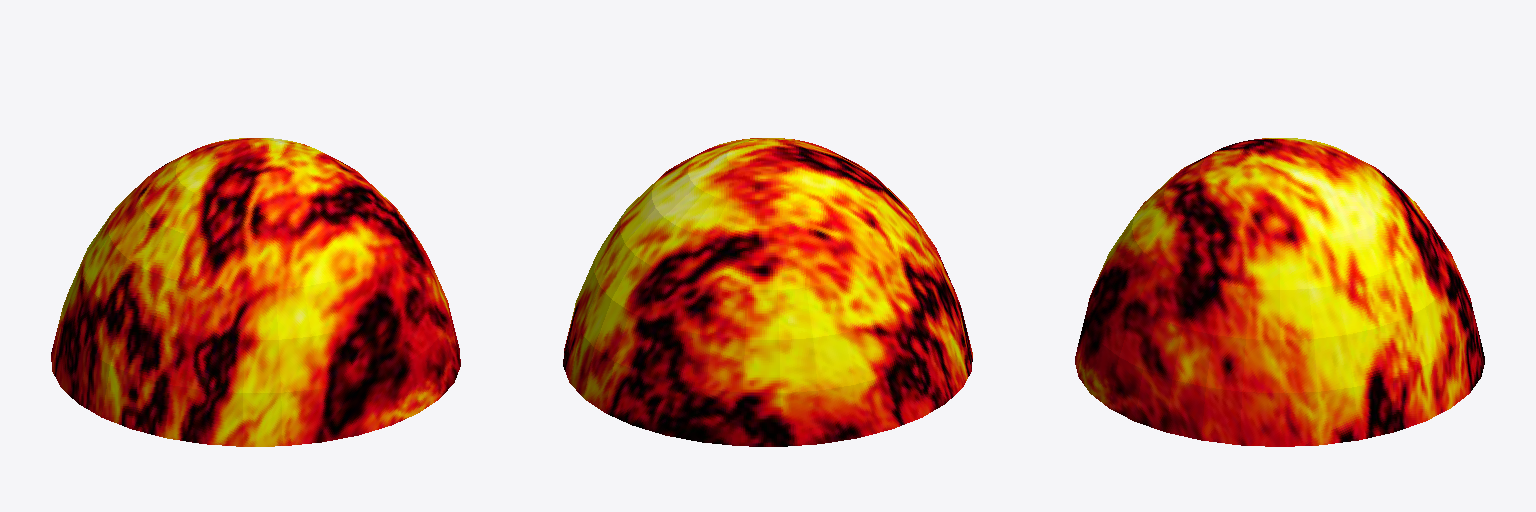
The picture shows the model from 3 angles: view 1: azimuth 30°, elevation 25°; view 2: azimuth 150°, elevation 25°; view 3: azimuth 270°, elevation 25°; orthographic projection.
Parts seen in each view (by area): view 1: 球; view 2: 球; view 3: 球.
Part boxes in pixels (left/top/right/bottom): 球: left=51, top=138, right=460, bottom=446; 球: left=563, top=138, right=972, bottom=446; 球: left=1075, top=138, right=1484, bottom=446.
Size of the model in its own units: 2.16 by 1.21 by 2.16.
1 materials, 1 textured.